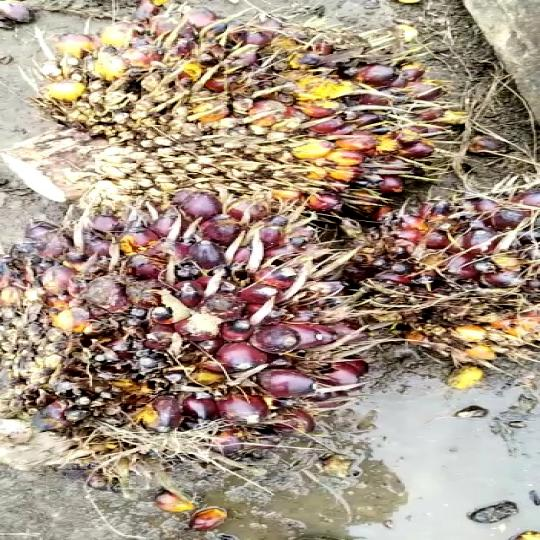masak: (0, 190, 384, 457), (41, 26, 501, 241), (327, 177, 540, 383)
